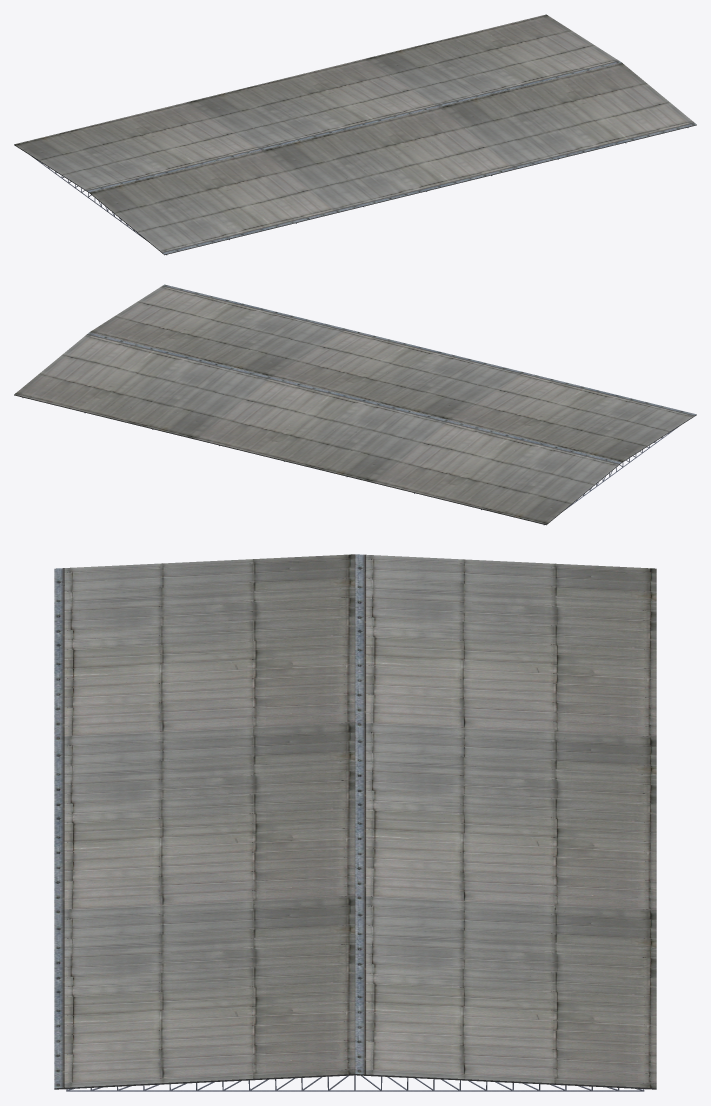
File: WareBig_Roof.glb
3 views of the same model, one above another, from view 1: azimuth 30°, elevation 25°; view 2: azimuth 150°, elevation 25°; view 3: azimuth 270°, elevation 25° (orthographic). The views are drawn at different scales.
Visible parts, largest first — view 1: WareBig_Roof; view 2: WareBig_Roof; view 3: WareBig_Roof, WareBig_Detail.
Part boxes in pixels (x1=…): WareBig_Roof: x1=14, y1=14, x2=696, y2=255; WareBig_Roof: x1=14, y1=284, x2=696, y2=525; WareBig_Roof: x1=54, y1=554, x2=656, y2=1089; WareBig_Detail: x1=66, y1=1075, x2=644, y2=1091.
Bounding box in the file's own units: 77 × 2.68 × 37.7.
4 materials, 4 textured.
